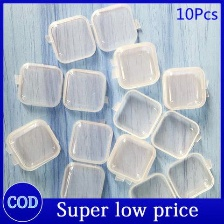plastic_box: (108, 85, 204, 164), (40, 3, 144, 66), (9, 58, 112, 117), (54, 114, 116, 197), (123, 149, 217, 198), (1, 115, 63, 174), (104, 38, 163, 93), (158, 63, 212, 114)
